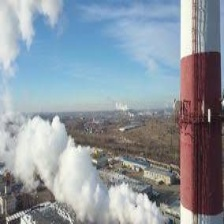smoke: (8, 120, 155, 224), (6, 1, 58, 80)
